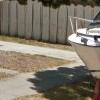Boat: (58, 9, 100, 96)
